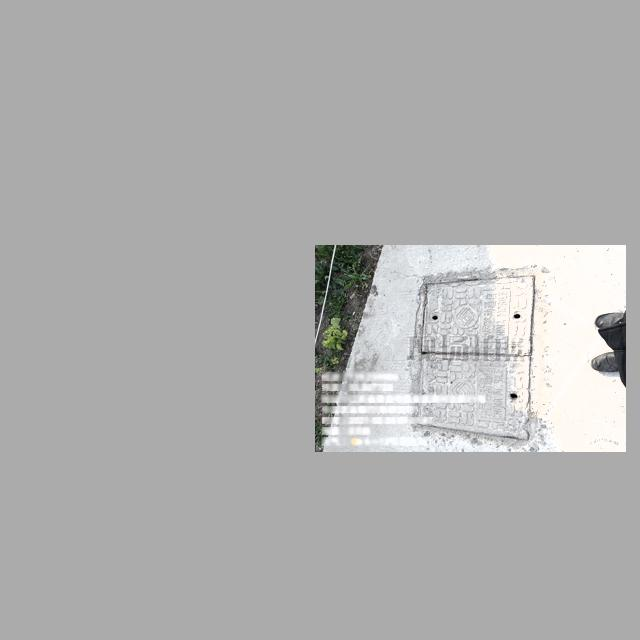good: (415, 272, 539, 445)
